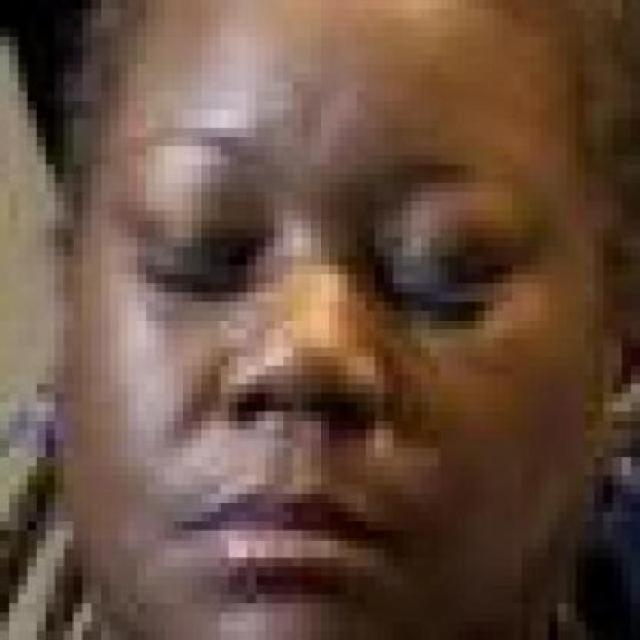drowsy: (145, 236, 246, 316), (382, 265, 500, 333)
